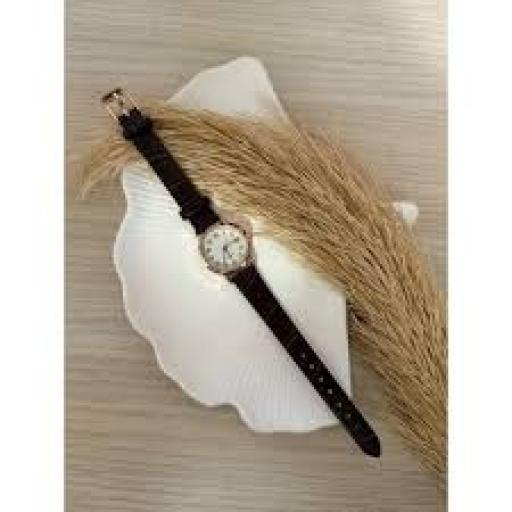KolSaati: (85, 69, 421, 476)
